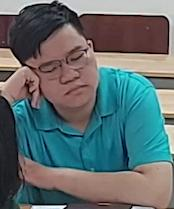Sleeping: (2, 4, 169, 205)
